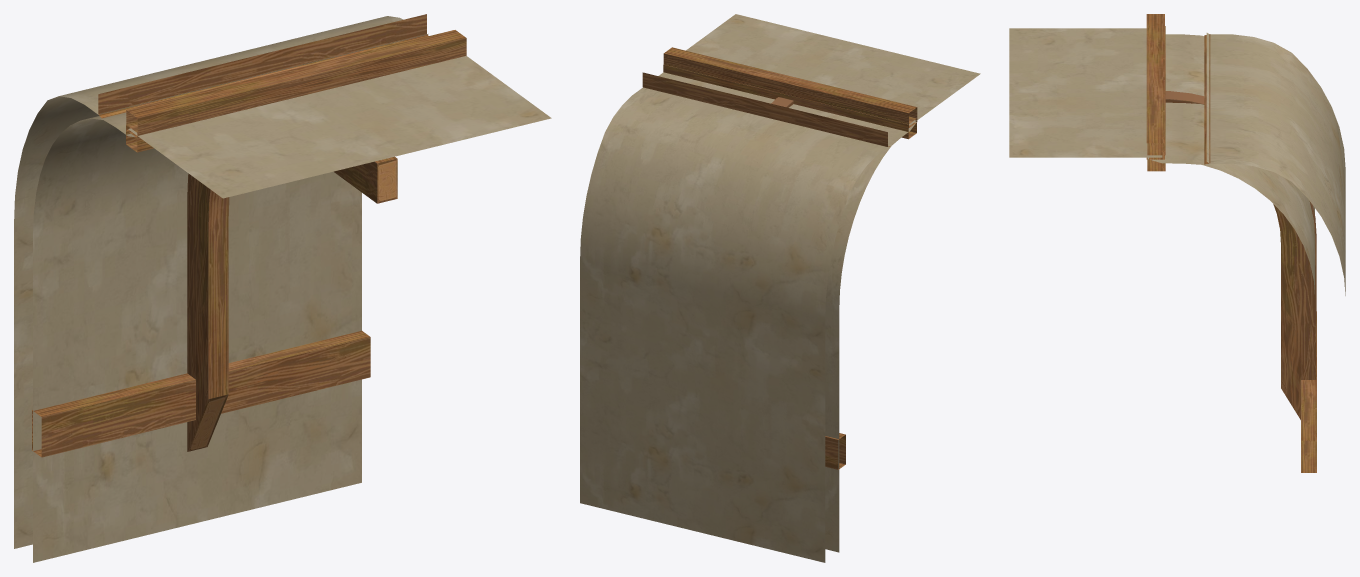
File: overhang_plaster.glb
3 renders of one model, left to right at view 1: azimuth 30°, elevation 25°; view 2: azimuth 150°, elevation 25°; view 3: azimuth 270°, elevation 25°, orthographic. The views are drawn at different scales.
Parts seen in each view (by area): view 1: Overhang_Plaster_Long; view 2: Overhang_Plaster_Long; view 3: Overhang_Plaster_Long.
Boxes of the visible parts, x1=… form: Overhang_Plaster_Long: x1=14, y1=14, x2=551, y2=562; Overhang_Plaster_Long: x1=580, y1=14, x2=980, y2=562; Overhang_Plaster_Long: x1=1009, y1=14, x2=1345, y2=472.
Size of the model in its own units: 2 by 3.03 by 2.2.
Materials: 2 (2 with a texture image).
